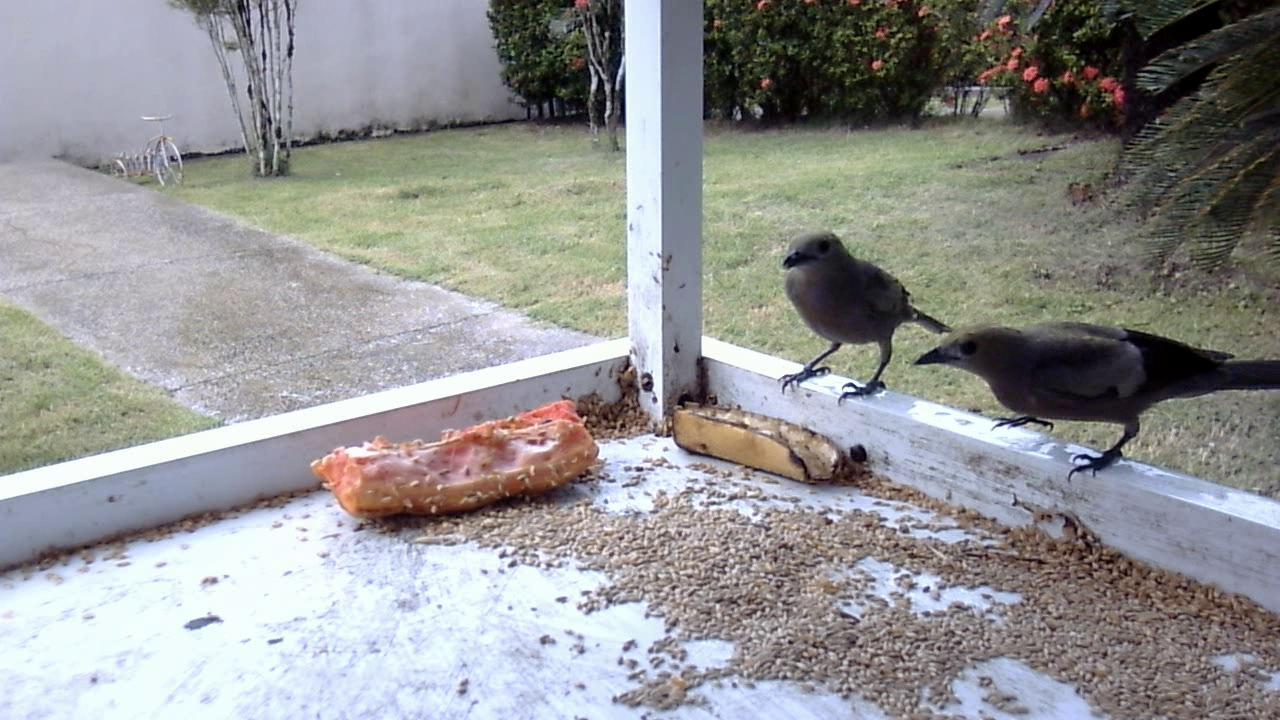sanhaco_do_coqueiro: (912, 296, 1272, 494), (769, 228, 952, 409)
